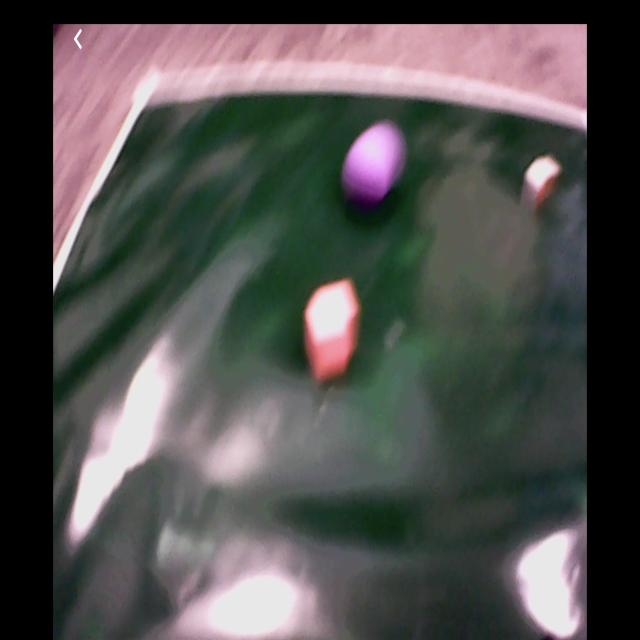ball: (345, 129, 394, 204)
